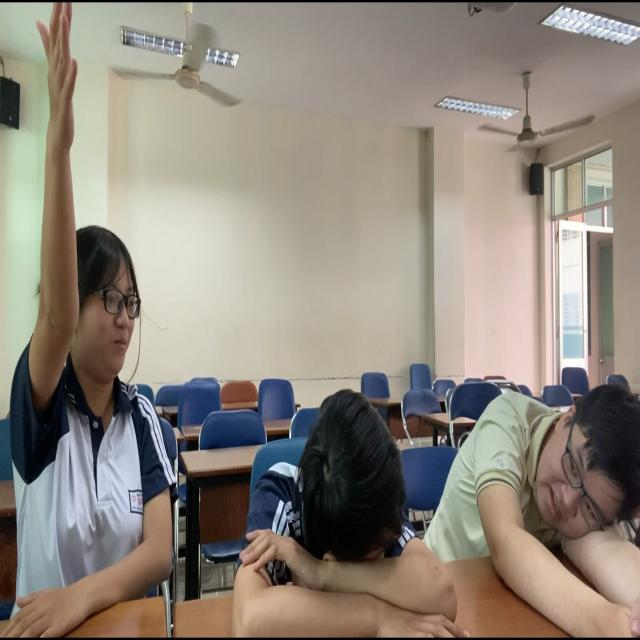raise_hand: (1, 11, 156, 640)
sleep: (239, 384, 461, 640), (458, 368, 640, 640)
